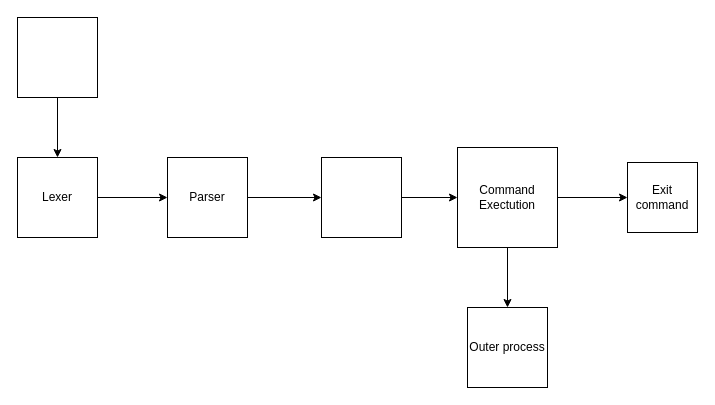
Image size: 715x405. Some labels were removed from this diagram. The box of each missing label's shape, as (x1, y1, x2, y2) in pixels:
Expansion: (320, 156, 402, 238)
Input: (16, 16, 98, 98)
